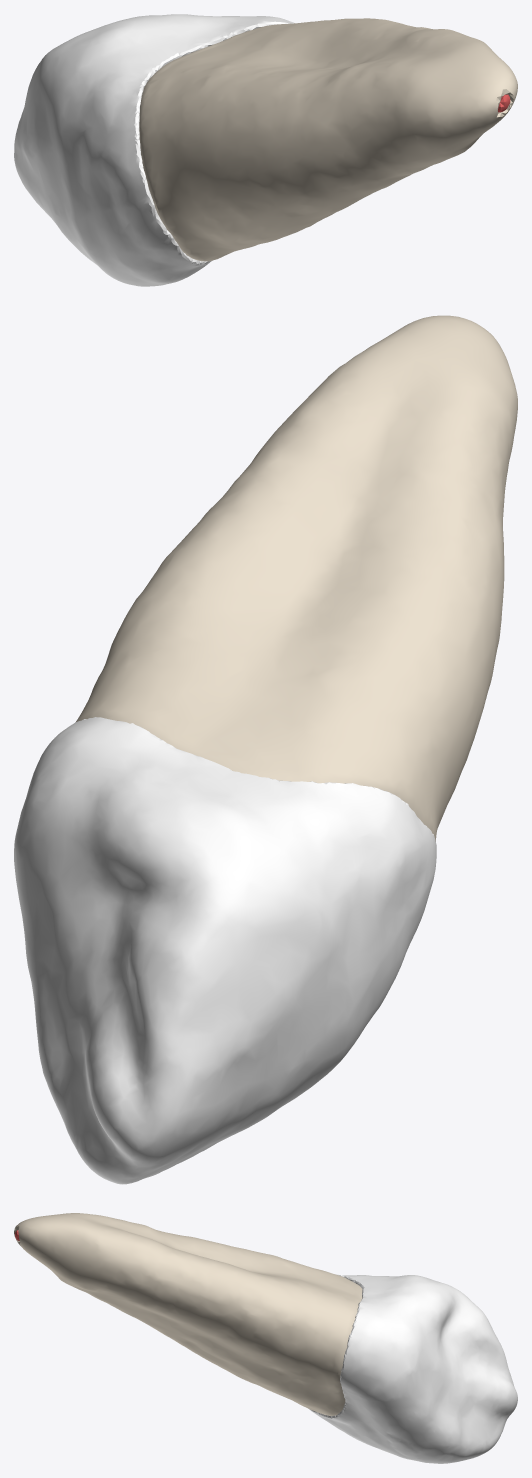
File: 恒牙上颌尖牙.fbx
3 views of the same model, one above another, from view 1: azimuth 30°, elevation 25°; view 2: azimuth 150°, elevation 25°; view 3: azimuth 270°, elevation 25° (orthographic). The views are drawn at different scales.
Parts seen in each view (by area): view 1: texture_B, texture_W; view 2: texture_W, texture_B; view 3: texture_B, texture_W.
Part boxes in pixels (x1,y1,x2,y2): texture_B: (139, 18, 517, 261); texture_W: (14, 14, 294, 286); texture_W: (14, 717, 436, 1184); texture_B: (75, 315, 517, 841); texture_B: (14, 1213, 362, 1415); texture_W: (308, 1274, 517, 1463).
Bounding box in the file's own units: 11.9 × 17.74 × 30.4.
3 materials, 3 textured.
